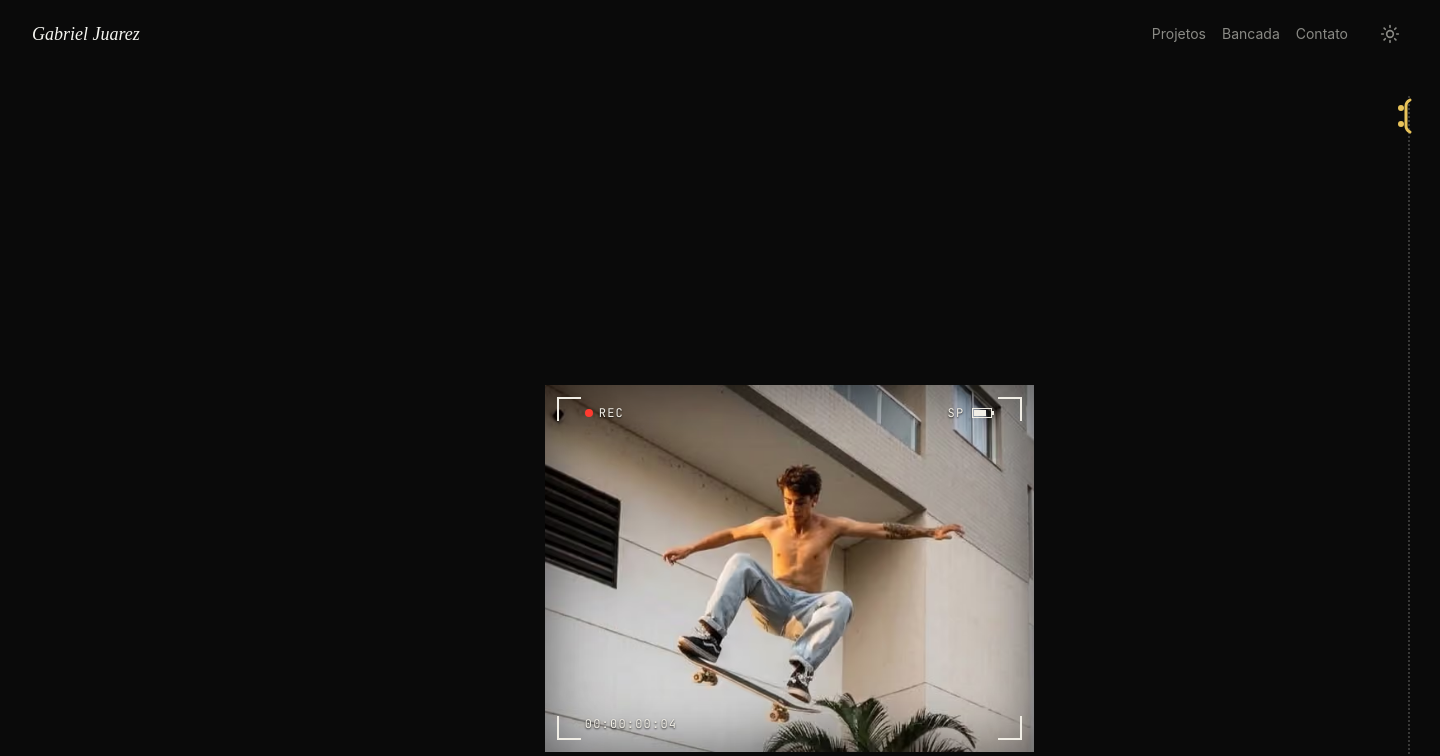
Test: Tema › alternar o tema grava no localStorage e muda o data-theme
Click the button named "ativar tema claro".
click(1390, 34)  # box [1372,16,1408,52]
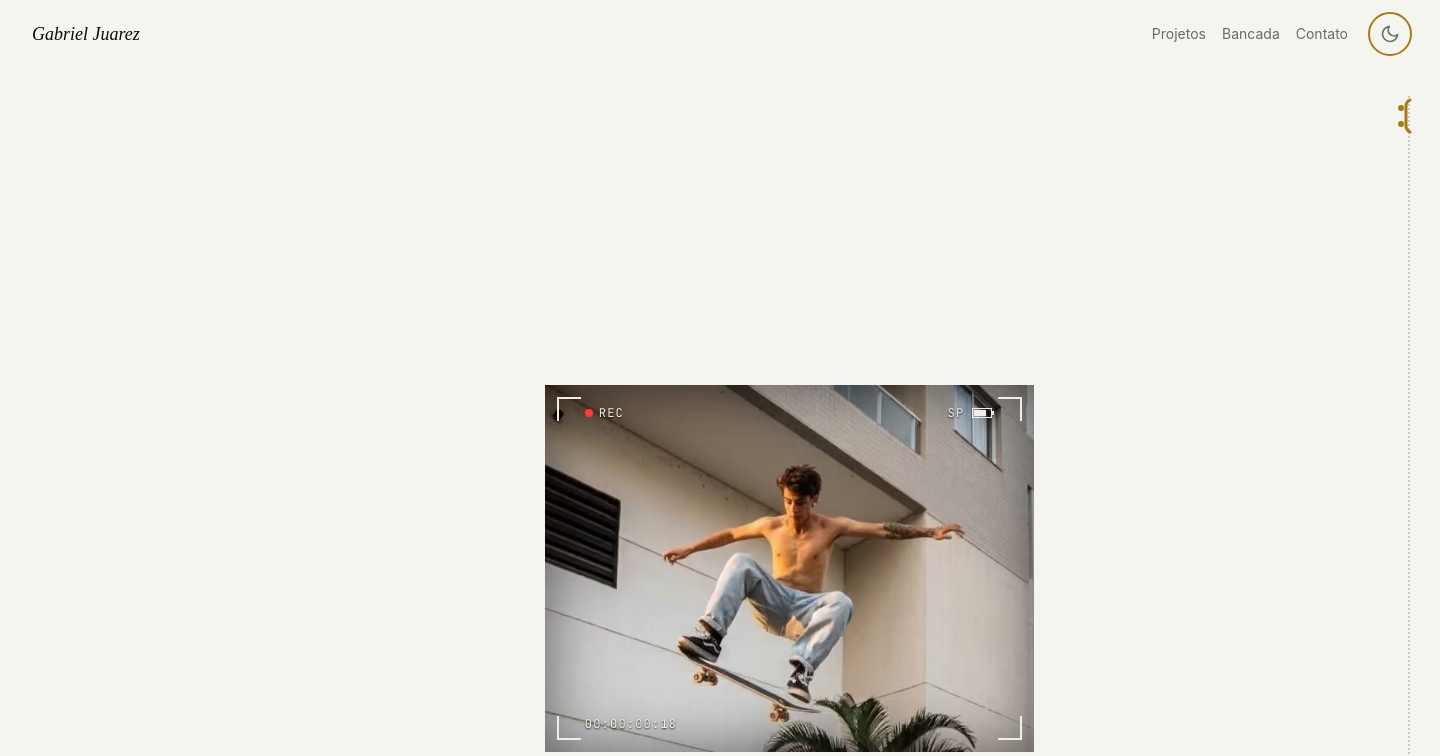
expect the button named "ativar tema escuro" is shown: met, box [1372,16,1408,52]
